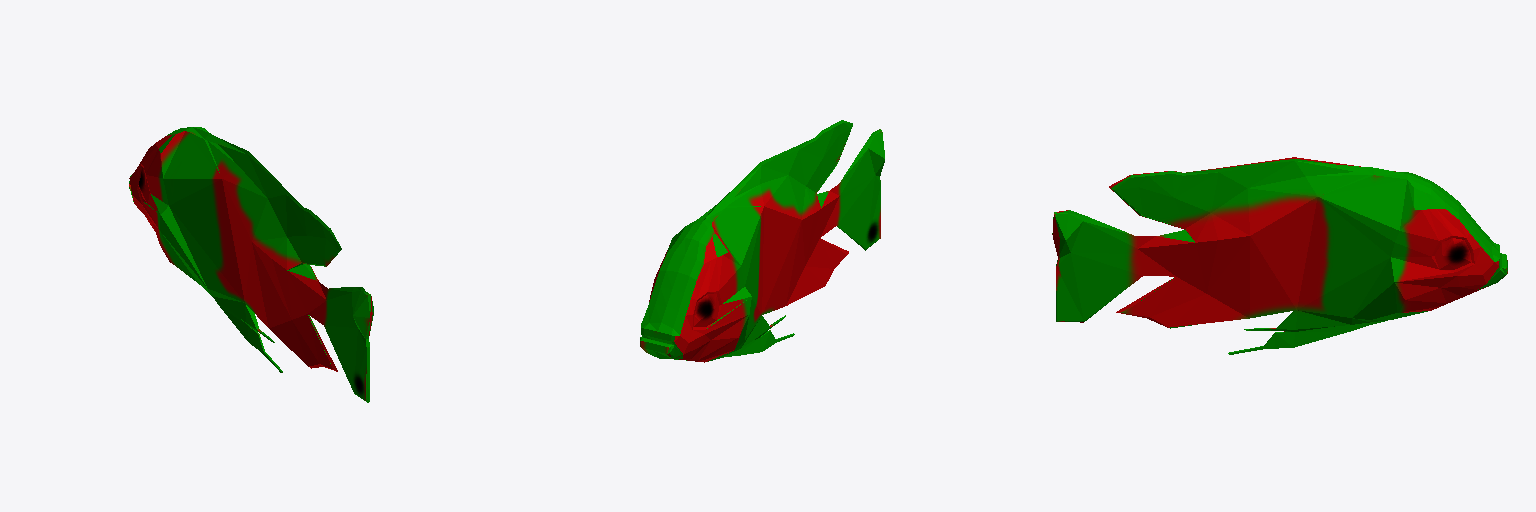
3 views of the same model, side by side, from view 1: azimuth 30°, elevation 25°; view 2: azimuth 150°, elevation 25°; view 3: azimuth 270°, elevation 25° (orthographic).
Parts seen in each view (by area): view 1: Plane; view 2: Plane; view 3: Plane.
Boxes of the visible parts, x1,y1,x2,y2 form: Plane: [129, 127, 373, 402]; Plane: [640, 120, 884, 362]; Plane: [1052, 157, 1507, 354].
Size of the model in its own units: 2.09 by 4.99 by 10.39.
Materials: 1 (1 with a texture image).